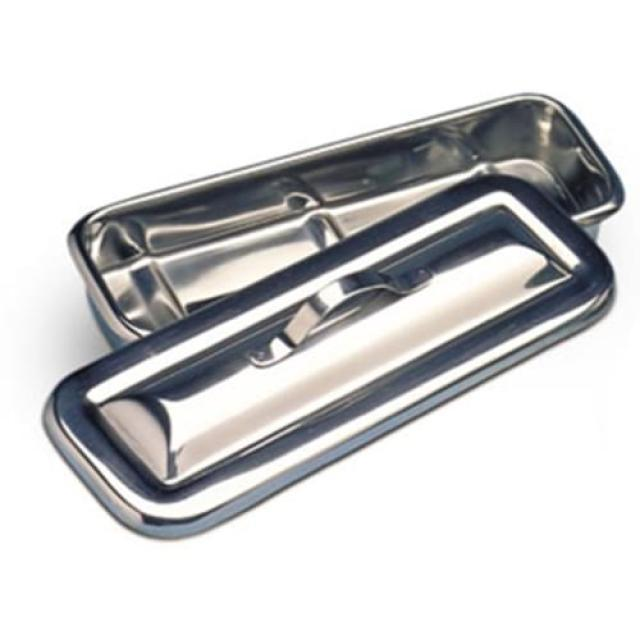Catheter Tray: (52, 79, 623, 338)
